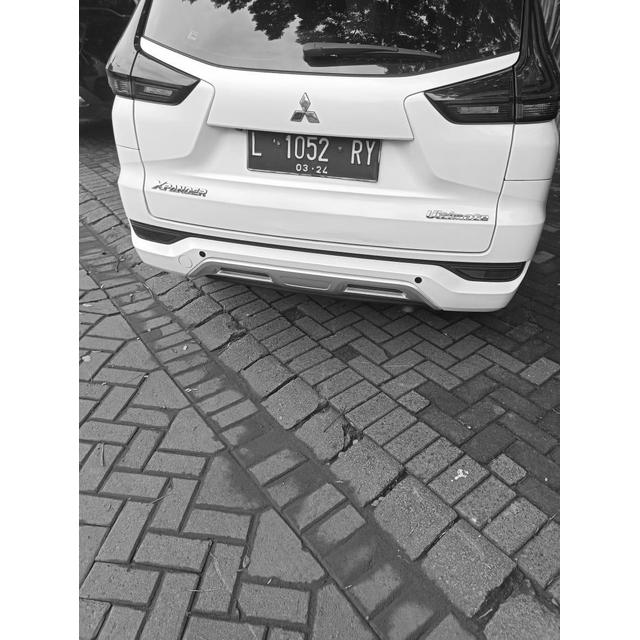license: (250, 129, 376, 178)
